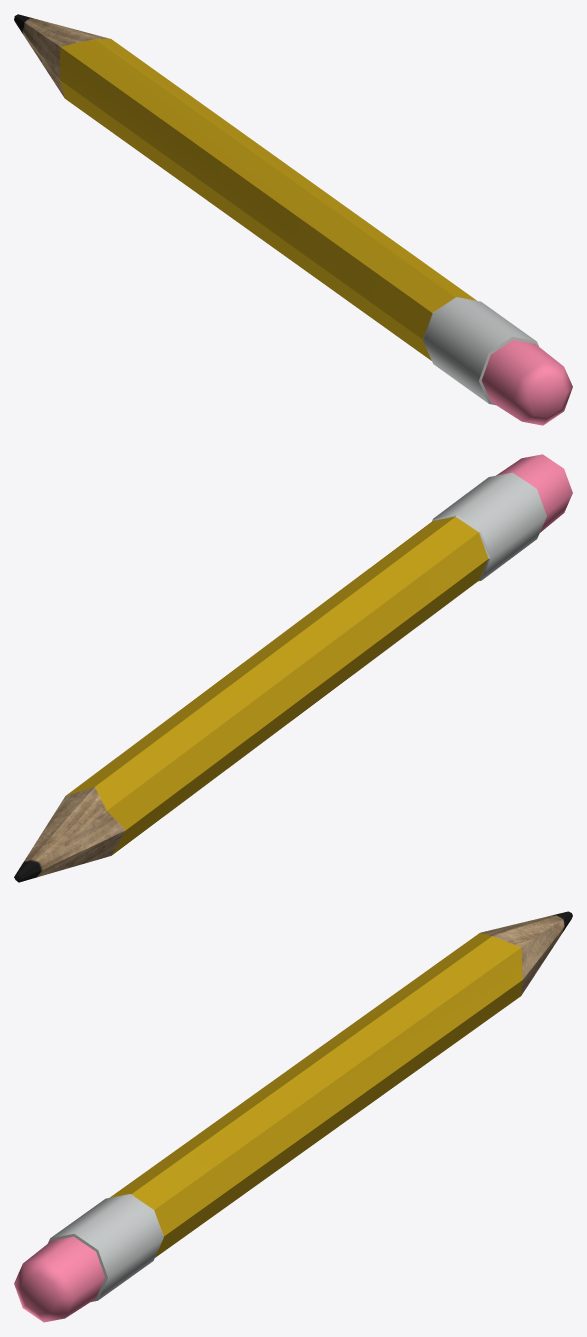
File: pencil.fbx
3 renders of one model, top to bottom at view 1: azimuth 30°, elevation 25°; view 2: azimuth 150°, elevation 25°; view 3: azimuth 330°, elevation 25°, orthographic.
Visible parts, largest first — view 1: pCylinder1; view 2: pCylinder1; view 3: pCylinder1.
Boxes of the visible parts, <box> form: pCylinder1: <box>14,14,572,425</box>; pCylinder1: <box>14,454,572,882</box>; pCylinder1: <box>14,911,572,1322</box>.
Size of the model in its own units: 2.74 by 37.11 by 2.95.
1 material, 1 textured.
